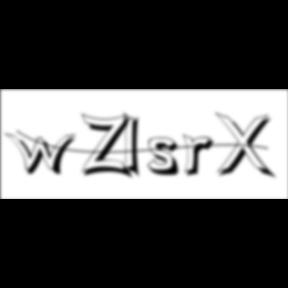I: (123, 110, 147, 182)
X: (215, 112, 279, 182)
Z: (82, 112, 136, 181)
r: (183, 134, 221, 180)
s: (148, 137, 187, 179)
w: (5, 132, 83, 178)
